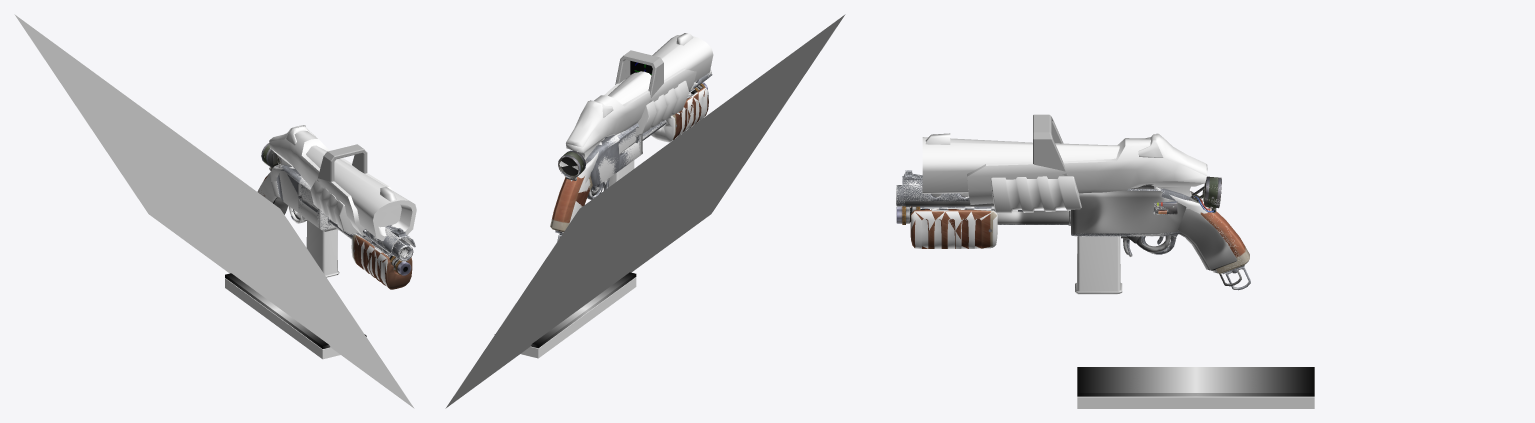
Rendered from Shotgun.glb.
3 views of the same model, side by side, from view 1: azimuth 30°, elevation 25°; view 2: azimuth 150°, elevation 25°; view 3: azimuth 270°, elevation 25° (orthographic). The views are drawn at different scales.
Parts seen in each view (by area): view 1: LightQuad, Visuals, ShotgunBodyModel (×2), Fore_armModel (×2), ClipModel, Cube (1), Cube, HoloSight, BarrelCover; view 2: LightQuad, Visuals, ShotgunBodyModel (×2), Fore_armModel (×2), Cube (1), HoloSight, Cube, AmmoCounterModel; view 3: Visuals, DoubleDamageEffect, Cube, Fore_armModel (×2), Cube (1), ClipModel, ShotgunBodyModel, HoloSight, AmmoCounterModel, BarrelCover.
Part boxes in pixels (<box>): LightQuad: <box>14,14,414,408</box>; Visuals: <box>269,125,416,240</box>; ShotgunBodyModel (×2): <box>257,165,413,261</box>; Fore_armModel (×2): <box>351,234,412,289</box>; ClipModel: <box>306,220,339,277</box>; Cube (1): <box>225,278,340,359</box>; Cube: <box>225,273,366,348</box>; HoloSight: <box>317,144,367,181</box>; BarrelCover: <box>363,225,415,252</box>; LightQuad: <box>445,14,845,408</box>; Visuals: <box>566,33,713,183</box>; ShotgunBodyModel (×2): <box>550,79,706,241</box>; Fore_armModel (×2): <box>651,87,708,142</box>; Cube (1): <box>521,277,636,358</box>; HoloSight: <box>615,50,663,101</box>; Cube: <box>494,272,636,348</box>; AmmoCounterModel: <box>558,150,587,180</box>; Visuals: <box>922,133,1211,213</box>; DoubleDamageEffect: <box>905,184,1241,286</box>; Cube: <box>1077,367,1314,396</box>; Fore_armModel (×2): <box>910,206,1044,248</box>; Cube (1): <box>1077,396,1314,408</box>; ClipModel: <box>1075,236,1122,294</box>; ShotgunBodyModel: <box>896,185,1250,290</box>; HoloSight: <box>1033,114,1067,175</box>; AmmoCounterModel: <box>1153,176,1221,214</box>; BarrelCover: <box>902,176,969,201</box>.
Size of what is drawn, in the model's own units: 0.3396 by 0.4633 by 0.9217.
10 materials, 7 textured.
